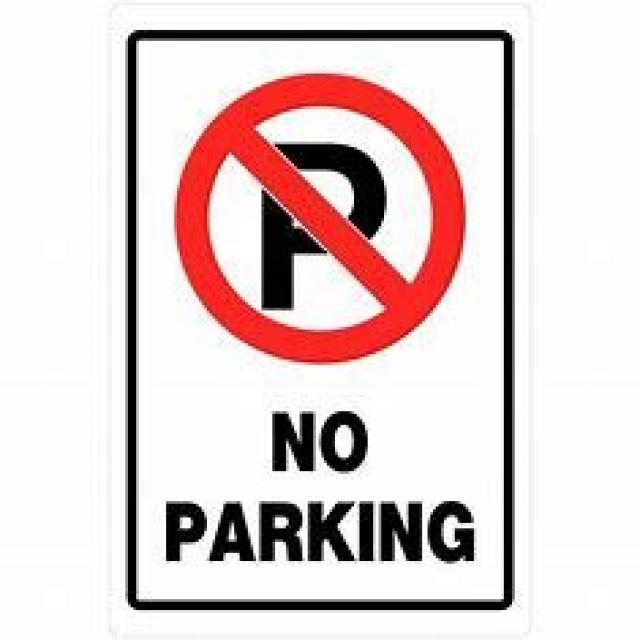NO_PARKING: (174, 68, 465, 363)
